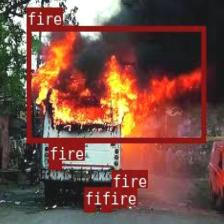fire: (26, 25, 205, 142), (111, 187, 125, 206), (48, 160, 61, 169), (84, 205, 96, 211), (100, 205, 111, 211)
